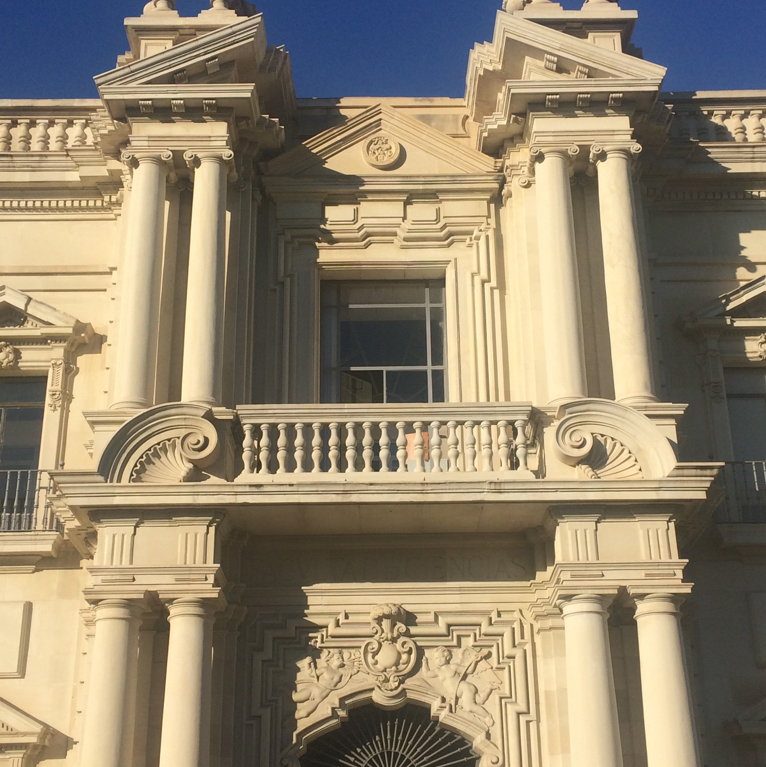fronton: (260, 100, 507, 194)
fronton-partido: (83, 396, 683, 517), (88, 9, 674, 103)
vano-adintelado: (300, 251, 470, 472)
